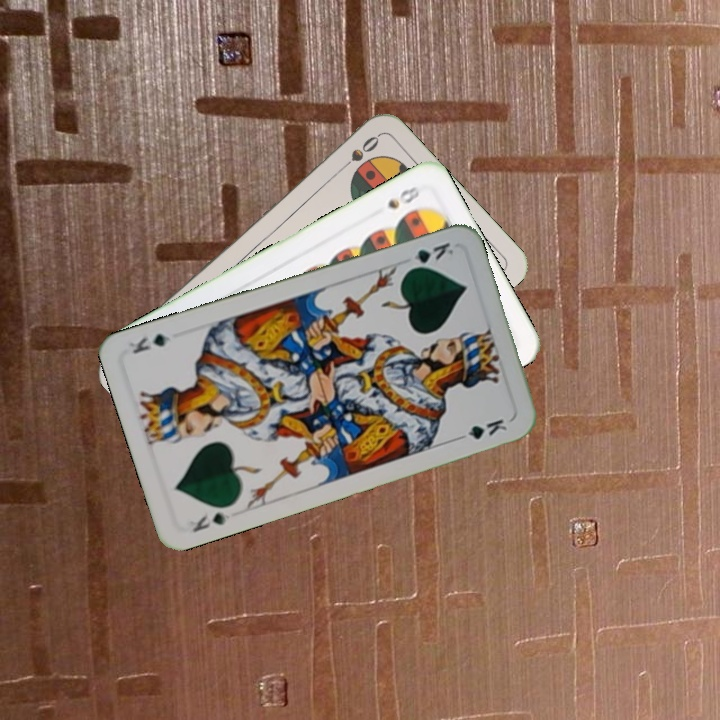GK: (402, 238, 456, 274), (188, 508, 233, 535)
S8: (383, 182, 422, 212)
SO: (333, 131, 382, 176)
